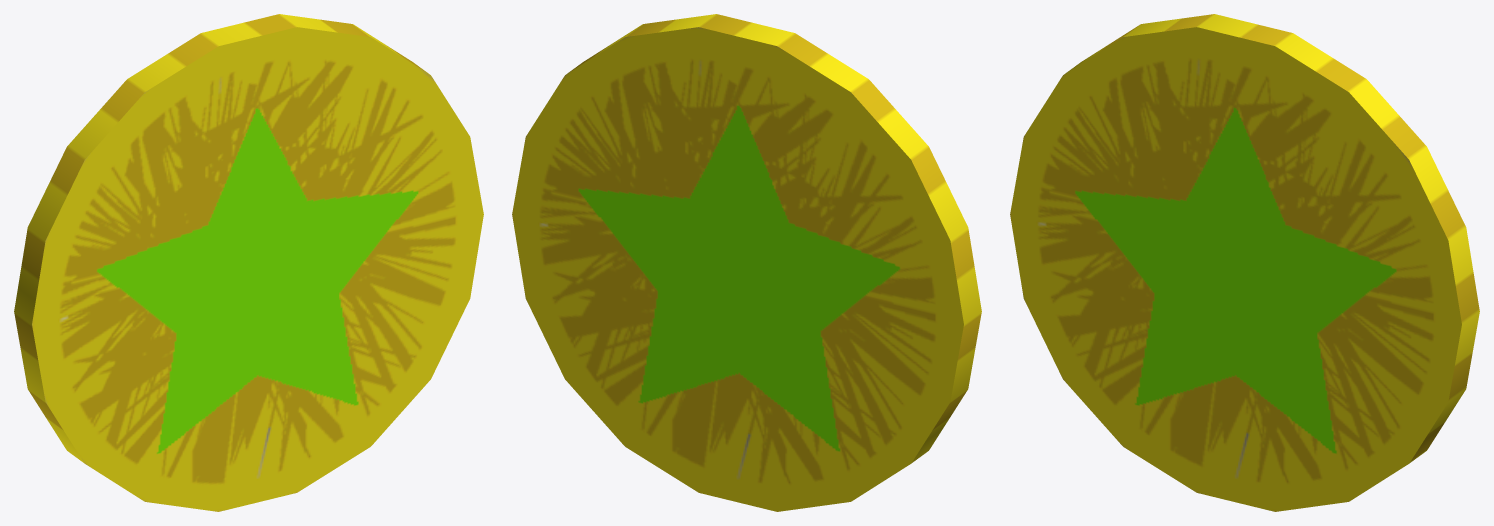
The model's file is greenCoin.fbx.
3 views of the same model, side by side, from view 1: azimuth 30°, elevation 25°; view 2: azimuth 150°, elevation 25°; view 3: azimuth 330°, elevation 25° (orthographic).
Parts seen in each view (by area): view 1: GreenCoin_geo; view 2: GreenCoin_geo; view 3: GreenCoin_geo.
Part boxes in pixels (x1,y1,x2,y2): GreenCoin_geo: [14, 14, 483, 511]; GreenCoin_geo: [512, 14, 981, 511]; GreenCoin_geo: [1010, 14, 1479, 511].
Size of the model in its own units: 123 by 121 by 8.45.
